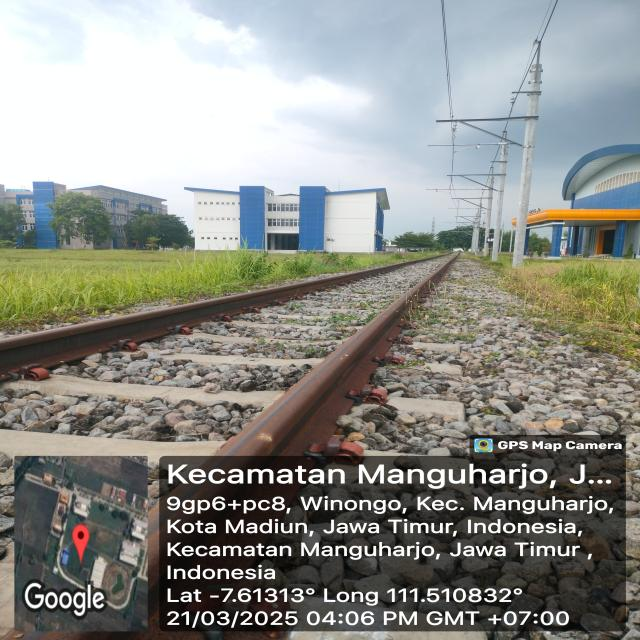rail-detection: (0, 260, 421, 380), (216, 254, 458, 456)
